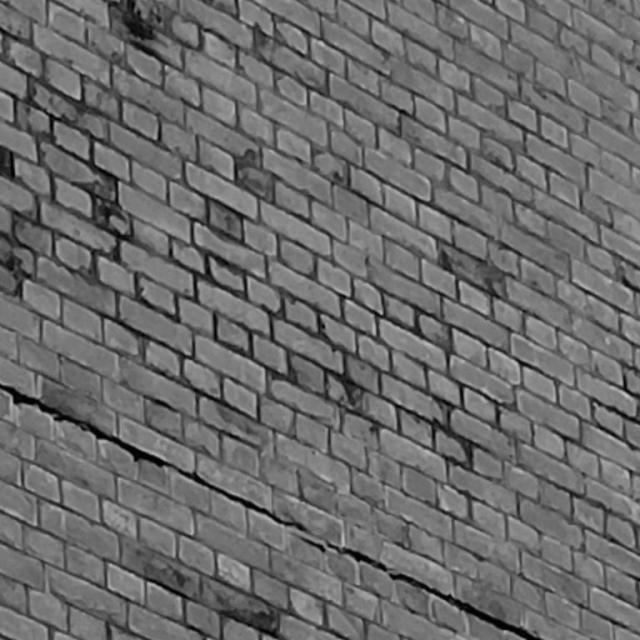crack: (1, 383, 542, 640)
